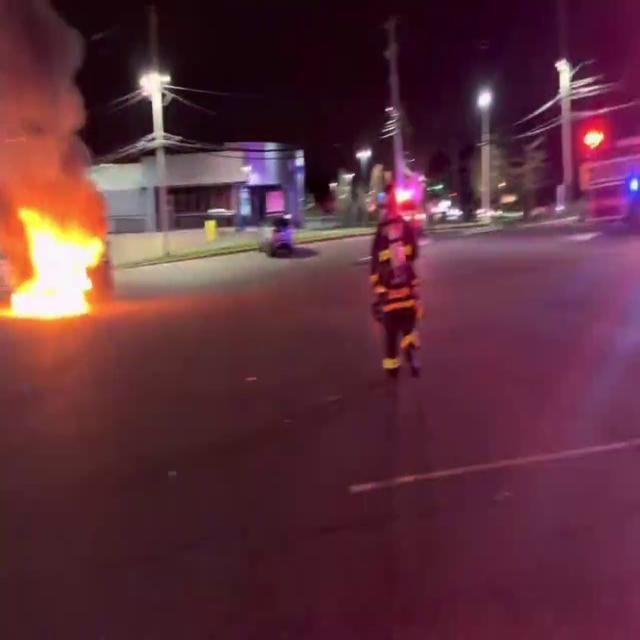Fire: (0, 198, 110, 322)
Smoke: (0, 0, 99, 213)
